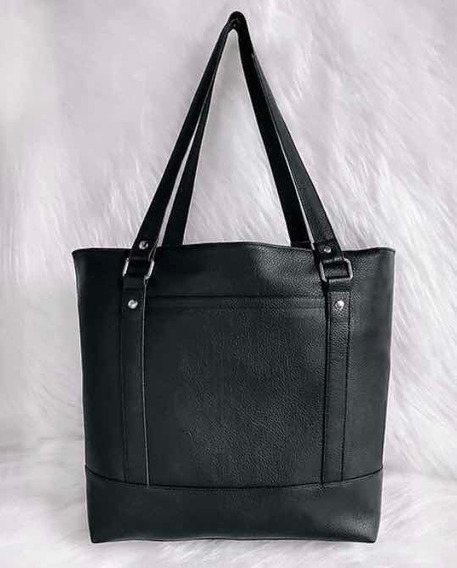cartera: (71, 11, 398, 544)
